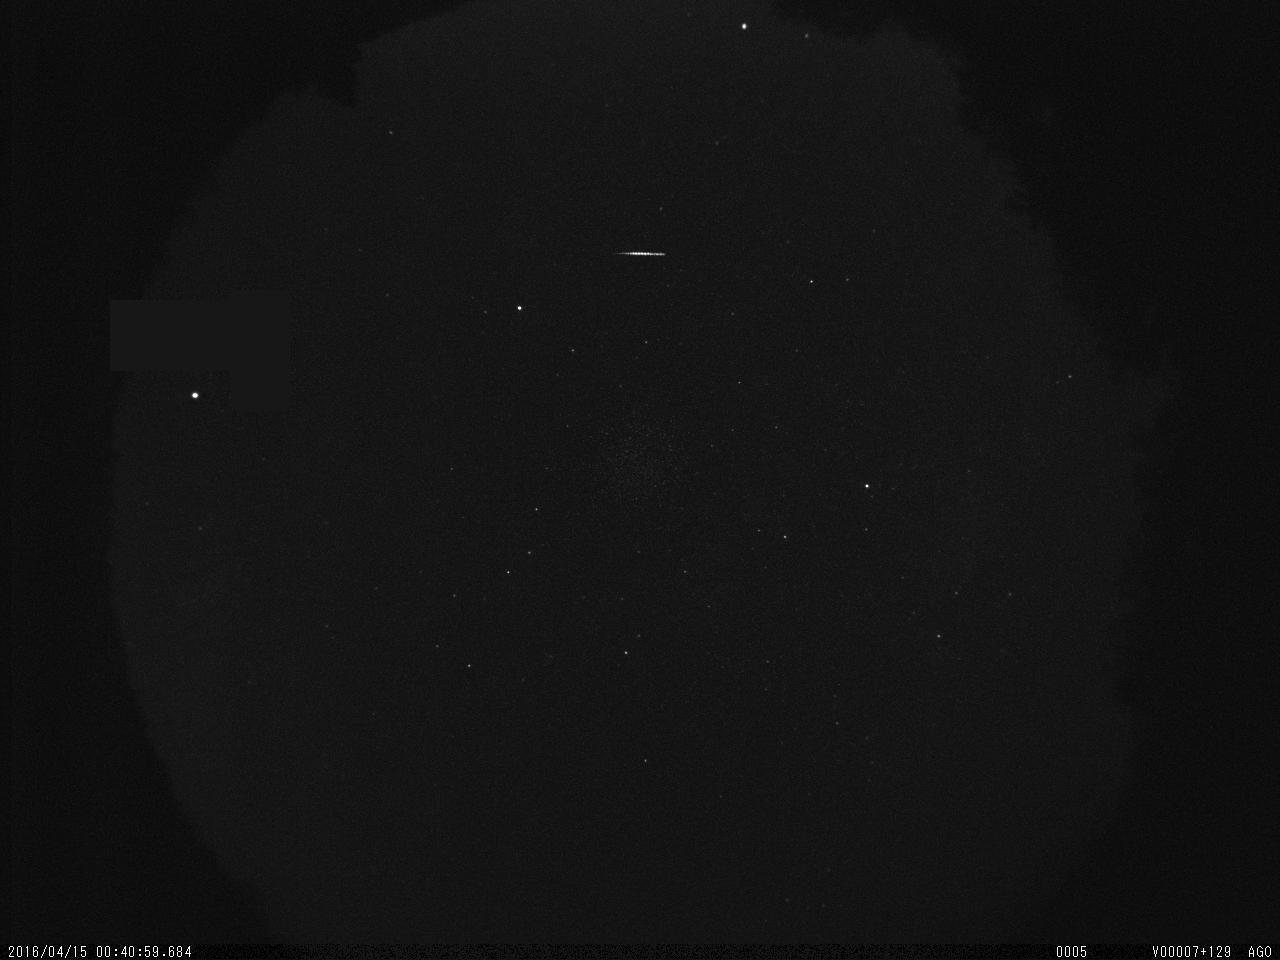meteor: (615, 231, 697, 279)
